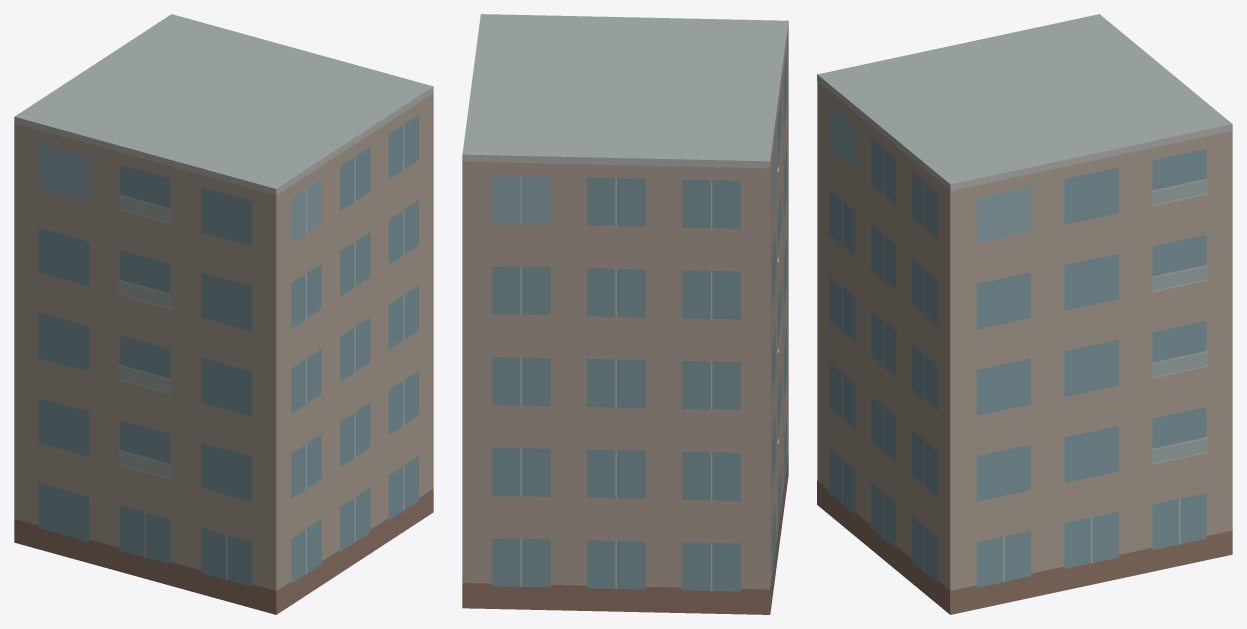
File: survey-upis-33040737.glb
3 renders of one model, left to right at view 1: azimuth 30°, elevation 25°; view 2: azimuth 150°, elevation 25°; view 3: azimuth 270°, elevation 25°, orthographic. The views are drawn at different scales.
Parts seen in each view (by area): view 1: survey-upis-33040737.tmp; view 2: survey-upis-33040737.tmp; view 3: survey-upis-33040737.tmp.
Boxes of the visible parts, left/top/right/bottom form: survey-upis-33040737.tmp: left=14, top=14, right=433, bottom=614; survey-upis-33040737.tmp: left=462, top=14, right=788, bottom=614; survey-upis-33040737.tmp: left=817, top=14, right=1232, bottom=614.
Size of the model in its own units: 13.42 by 15.8 by 13.83.
